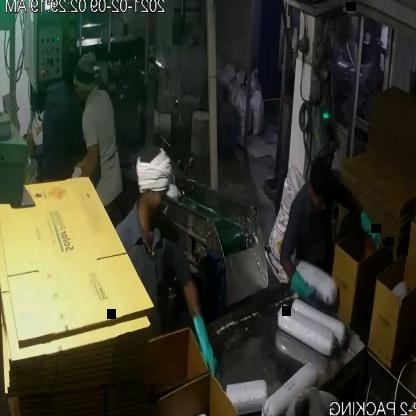glove: (190, 300, 228, 388), (358, 193, 390, 253), (285, 265, 322, 315)
no_glove: (67, 136, 106, 192)
